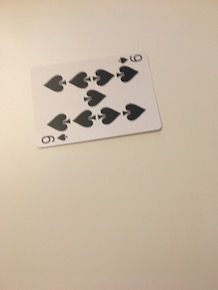NineOfSpades: (28, 50, 165, 152)
